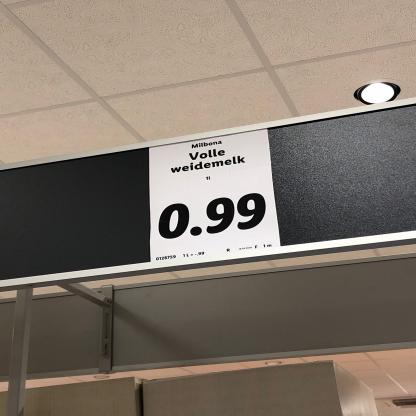prtg: (150, 129, 281, 263)
